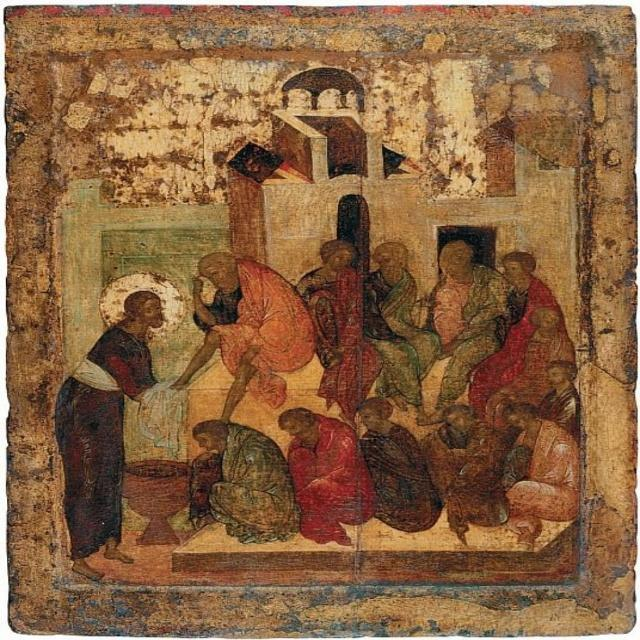apostle: (186, 249, 319, 407), (196, 405, 286, 547), (366, 237, 431, 403), (425, 398, 501, 539), (498, 398, 579, 529), (284, 401, 359, 539), (316, 233, 375, 401), (430, 236, 487, 404), (363, 397, 428, 539), (494, 299, 571, 399), (500, 241, 529, 381), (540, 356, 582, 419)
aura: (98, 272, 188, 334)
basin: (118, 456, 196, 551)
christ: (46, 269, 186, 584)
church: (231, 59, 436, 231)
cloth: (134, 377, 186, 456)
